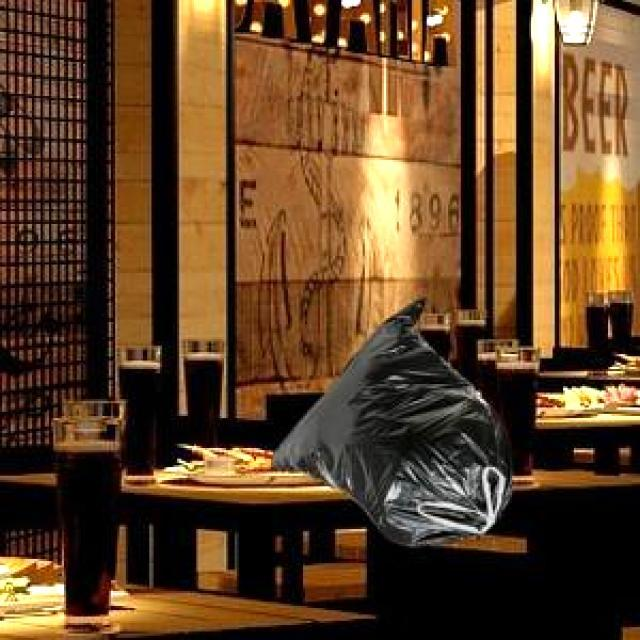Garbage_Bag: (268, 295, 509, 543)
